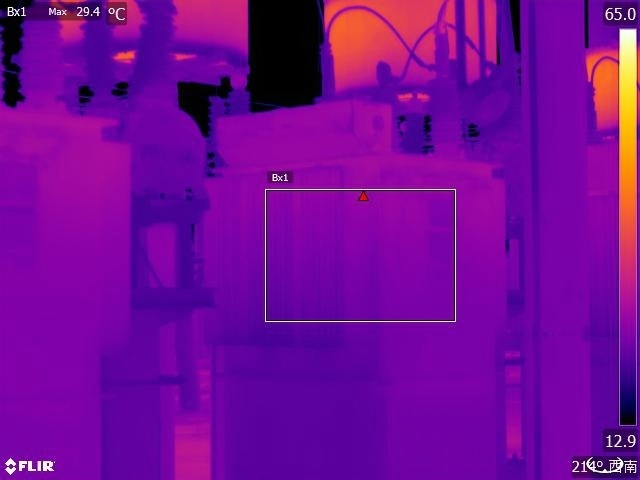capacitor: (19, 1, 269, 91), (313, 1, 518, 92)
post insulator: (204, 89, 229, 152), (223, 86, 255, 117)
tube: (126, 1, 184, 111), (72, 1, 124, 106), (11, 7, 67, 103), (424, 42, 468, 152)
